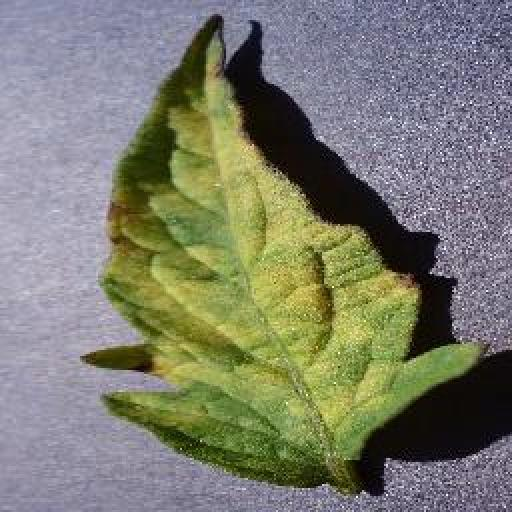Leaf Mold: (78, 13, 487, 487)
